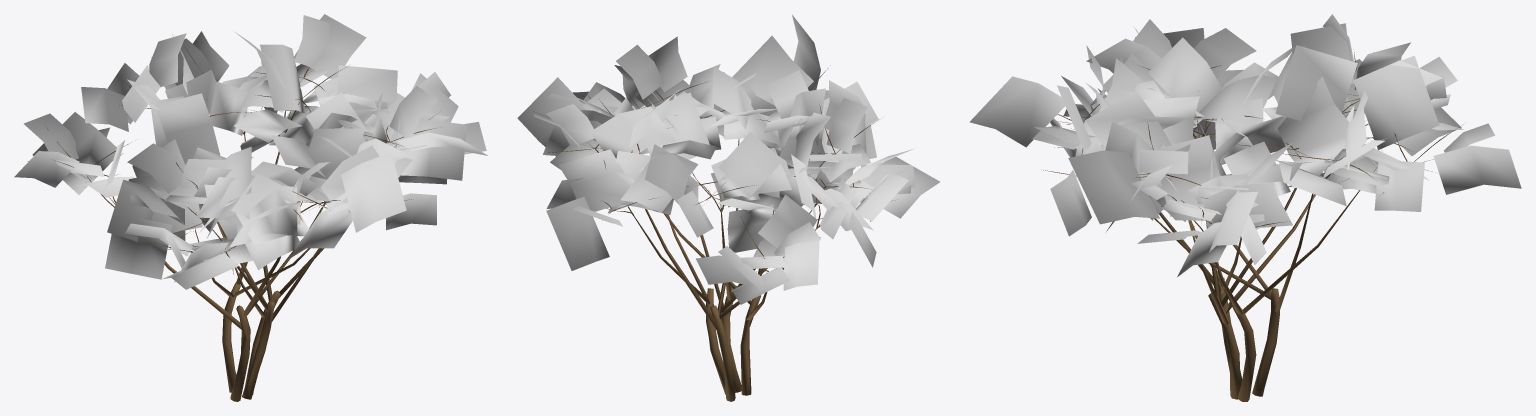
Rendered from V7_Myrte_1_Niveau2.fbx.
3 renders of one model, left to right at view 1: azimuth 30°, elevation 25°; view 2: azimuth 150°, elevation 25°; view 3: azimuth 270°, elevation 25°, orthographic. The views are drawn at different scales.
Visible parts, largest first — view 1: V7_Myrte_1_Detail2; view 2: V7_Myrte_1_Detail2; view 3: V7_Myrte_1_Detail2.
Part boxes in pixels (<box>): V7_Myrte_1_Detail2: <box>14,14,487,401</box>; V7_Myrte_1_Detail2: <box>517,14,939,401</box>; V7_Myrte_1_Detail2: <box>969,14,1521,401</box>.
Size of the model in its own units: 234 by 198 by 268.
